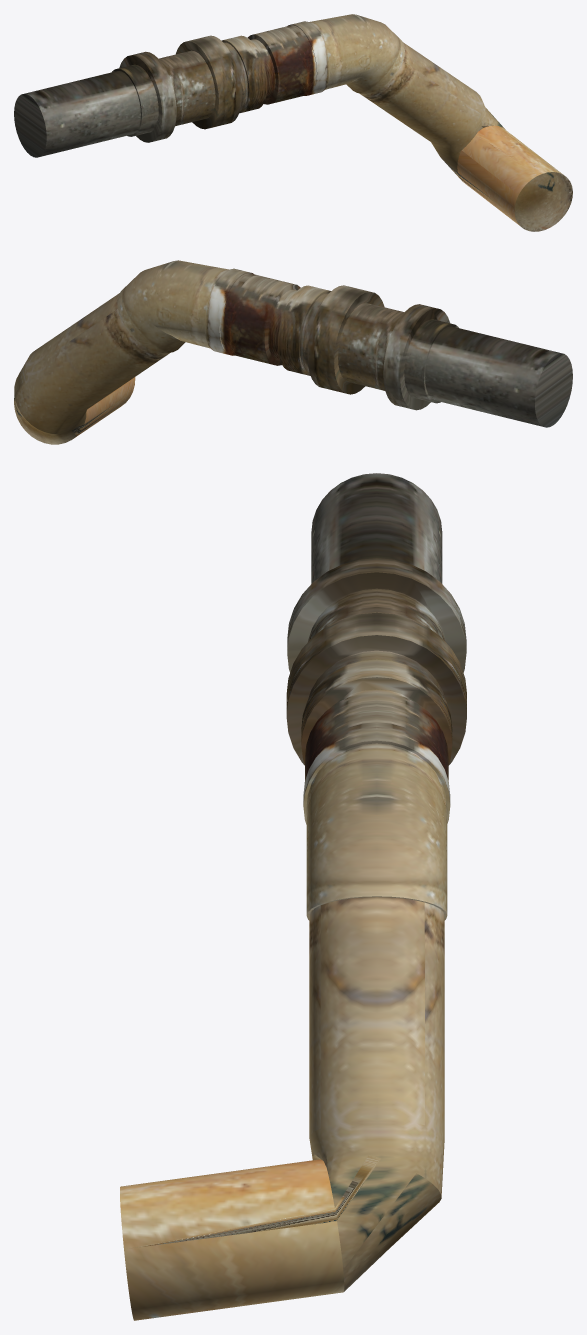
Rendered from SHORT S. METAL 3.fbx.
3 renders of one model, top to bottom at view 1: azimuth 30°, elevation 25°; view 2: azimuth 150°, elevation 25°; view 3: azimuth 270°, elevation 25°, orthographic. The views are drawn at different scales.
Visible parts, largest first — view 1: SHORT S. METAL 3.001; view 2: SHORT S. METAL 3.001; view 3: SHORT S. METAL 3.001.
Part boxes in pixels (<box>): SHORT S. METAL 3.001: <box>14,14,572,231</box>; SHORT S. METAL 3.001: <box>14,260,572,444</box>; SHORT S. METAL 3.001: <box>120,473,466,1320</box>.
Size of the model in its own units: 5.36 by 2.26 by 1.68.
